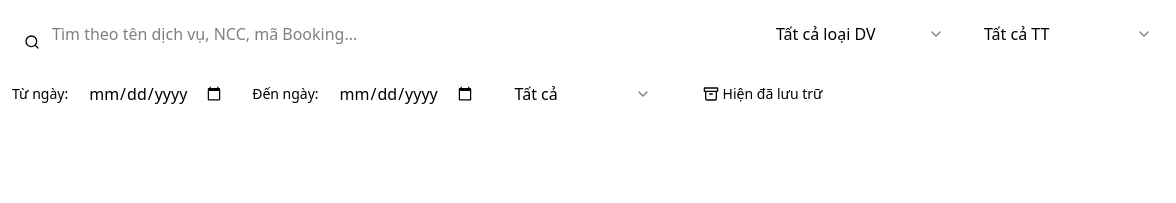
Test: OperatorListFilters › Payment Status Filter › displays "Tất cả TT" when no selection
Get payment status select (second combobox)
Click the dropdown labelled "Tất cả TT": (1068, 34) [972, 12, 1164, 56]
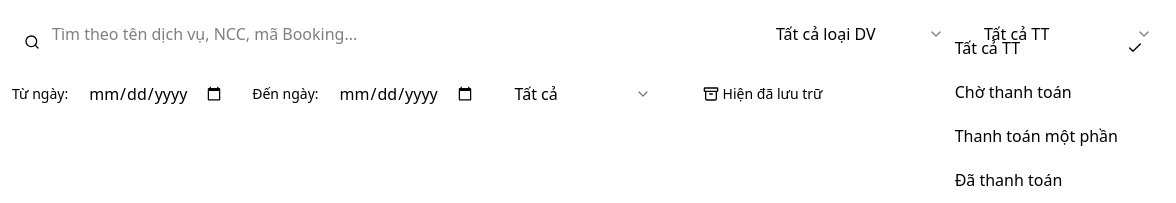
Check: the option "Tất cả TT" is shown, box [955, 37, 1143, 59]
